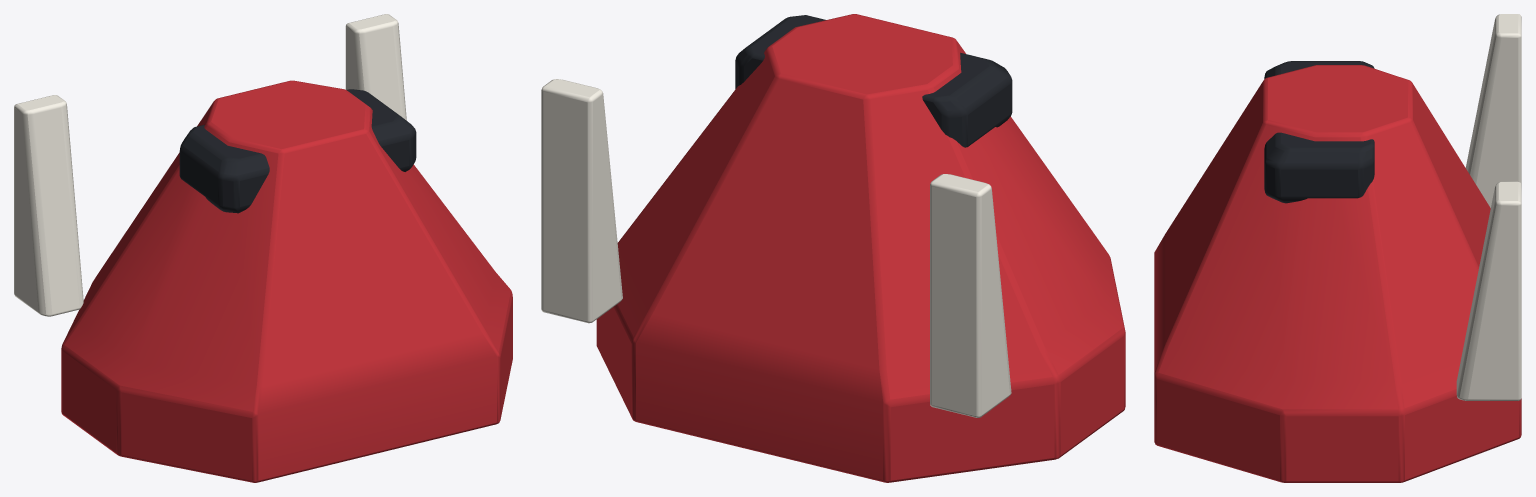
File: AnimalHeadFront_Set08_Goliath.fbx
3 renders of one model, left to right at view 1: azimuth 30°, elevation 25°; view 2: azimuth 150°, elevation 25°; view 3: azimuth 270°, elevation 25°, orthographic. The views are drawn at different scales.
Parts seen in each view (by area): view 1: AnimalHeadFront_Set08_Goliath; view 2: AnimalHeadFront_Set08_Goliath; view 3: AnimalHeadFront_Set08_Goliath.
Part boxes in pixels (left/top/right/bottom): AnimalHeadFront_Set08_Goliath: left=14, top=14, right=512, bottom=482; AnimalHeadFront_Set08_Goliath: left=541, top=14, right=1125, bottom=482; AnimalHeadFront_Set08_Goliath: left=1154, top=14, right=1521, bottom=482.
Bounding box in the file's own units: 0.36 × 0.24 × 0.28.
